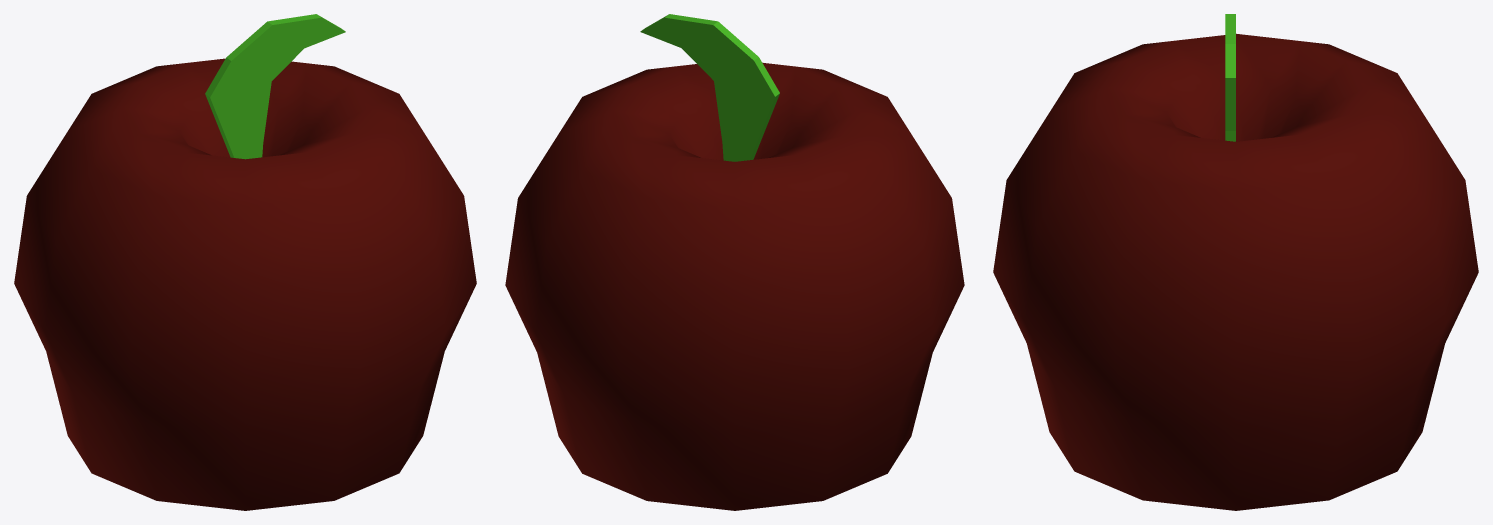
The model's file is Apple.fbx.
3 renders of one model, left to right at view 1: azimuth 30°, elevation 25°; view 2: azimuth 150°, elevation 25°; view 3: azimuth 270°, elevation 25°, orthographic. The views are drawn at different scales.
Visible parts, largest first — view 1: Torus001, Plane001; view 2: Torus001, Plane001; view 3: Torus001, Plane001.
Part boxes in pixels (x1=…): Torus001: x1=14, y1=58, x2=476, y2=510; Plane001: x1=205, y1=14, x2=345, y2=159; Torus001: x1=505, y1=62, x2=964, y2=510; Plane001: x1=640, y1=14, x2=779, y2=161; Torus001: x1=993, y1=33, x2=1478, y2=510; Plane001: x1=1225, y1=14, x2=1235, y2=141.
Bounding box in the file's own units: 1.25 × 1.29 × 1.25.
